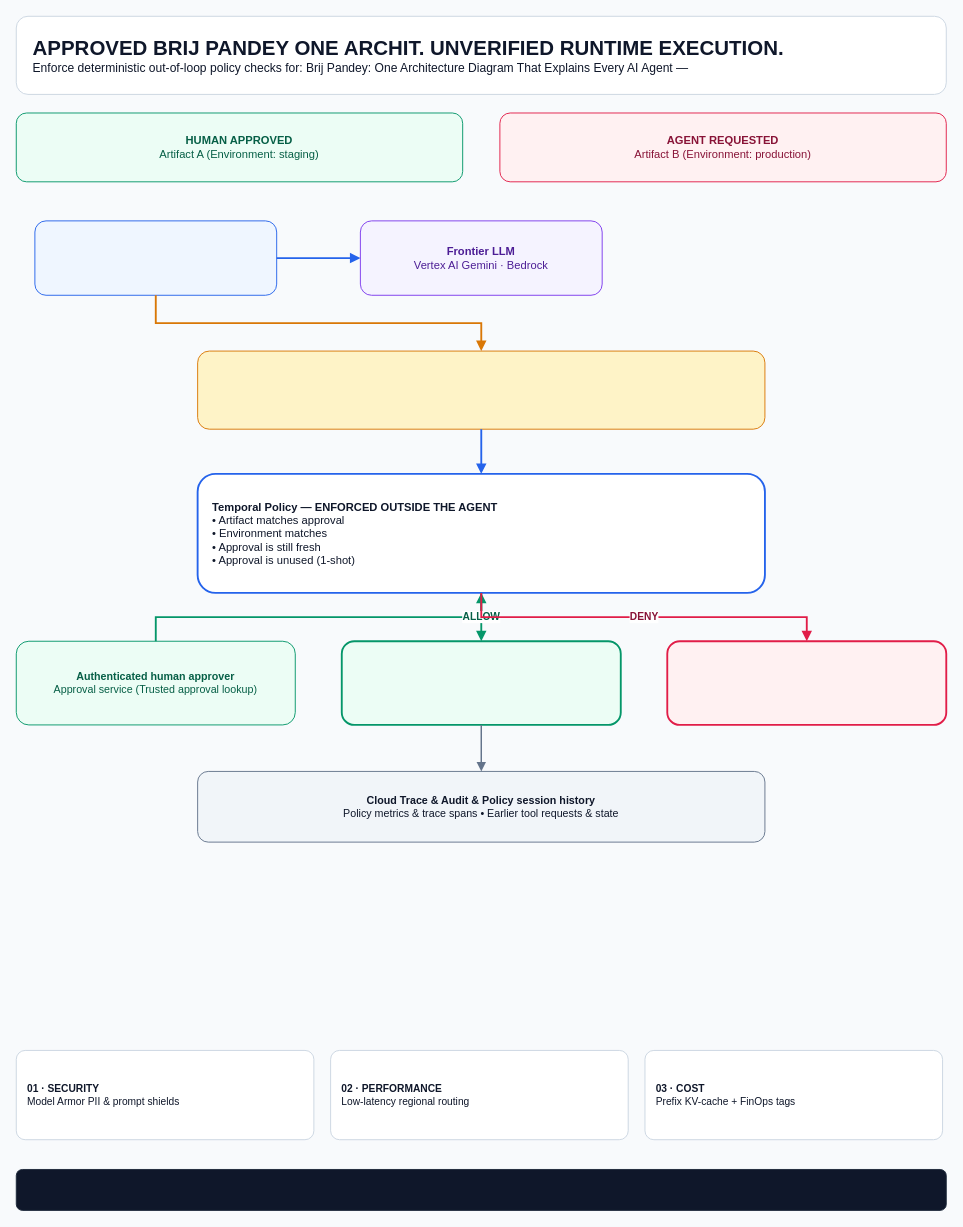
Some shapes in this 963 by 1227 pixel diagram are drawn without their labels. The centre of each missing label's shape, as x and y in pixels:
ALLOW → Deployment service Execute authorized deployment: (x=480, y=682)
DENY → Action blocked No deployment call is made: (x=806, y=682)
Deployment Agent Google Cloud ADK · AgentCore: (x=155, y=257)
NITIN AGGARWAL • FLOW-01 • BLUEPRINT T85 • NOVEMBER 2026: (x=480, y=1189)
Policy Gateway (ENFORCEMENT POINT) ADK BeforeToolCallback · Gateway: (x=481, y=389)
